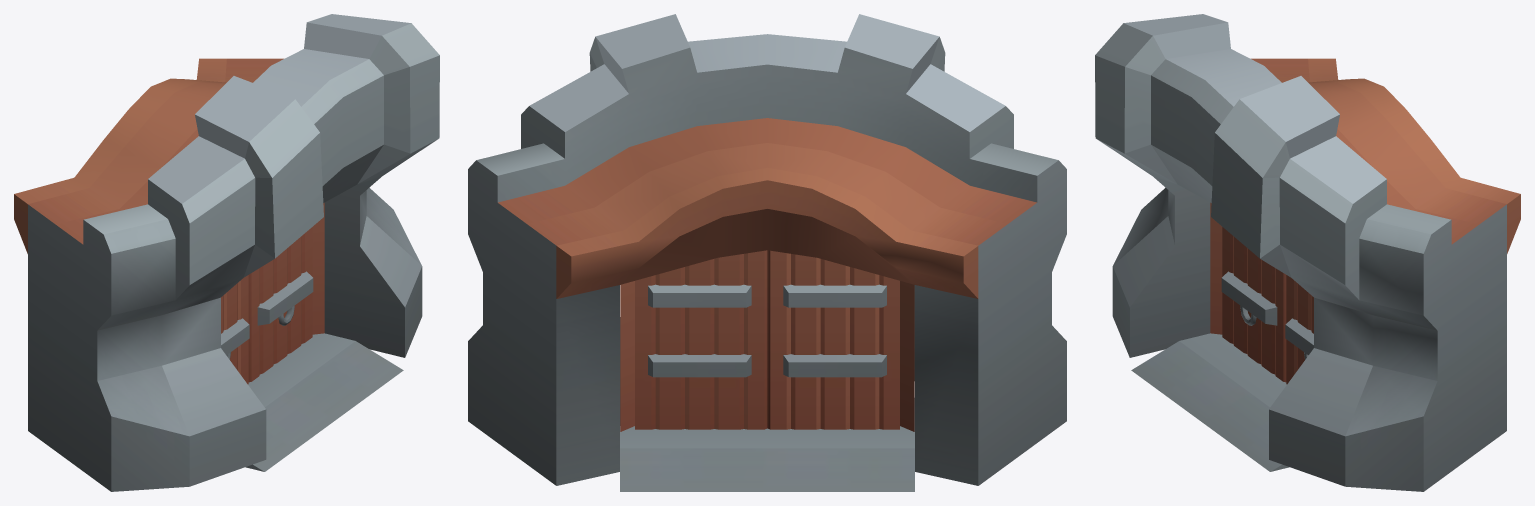
The model's file is kaykit-medieval-hexagon-pack-wall-corner-a-gate.glb.
3 views of the same model, side by side, from view 1: azimuth 30°, elevation 25°; view 2: azimuth 150°, elevation 25°; view 3: azimuth 270°, elevation 25° (orthographic). The views are drawn at different scales.
Visible parts, largest first — view 1: wall_corner_A_gate, wall_corner_A_gate_door_left, wall_corner_A_gate_door_right; view 2: wall_corner_A_gate, wall_corner_A_gate_door_right, wall_corner_A_gate_door_left; view 3: wall_corner_A_gate, wall_corner_A_gate_door_right, wall_corner_A_gate_door_left.
Part boxes in pixels (x1,y1,x2,y2): wall_corner_A_gate: [14, 14, 439, 491]; wall_corner_A_gate_door_left: [248, 227, 313, 382]; wall_corner_A_gate_door_right: [221, 275, 249, 384]; wall_corner_A_gate: [468, 14, 1066, 491]; wall_corner_A_gate_door_right: [767, 250, 899, 429]; wall_corner_A_gate_door_left: [635, 250, 767, 429]; wall_corner_A_gate: [1095, 14, 1520, 491]; wall_corner_A_gate_door_right: [1221, 227, 1286, 382]; wall_corner_A_gate_door_left: [1285, 275, 1313, 384].
Size of the model in its own units: 1.76 by 1.42 by 1.53.
1 material, 1 textured.
